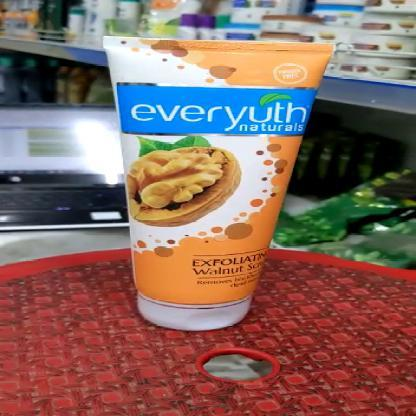EY EXF WALNUT SCRUB AYR 200G: (110, 38, 331, 330)
